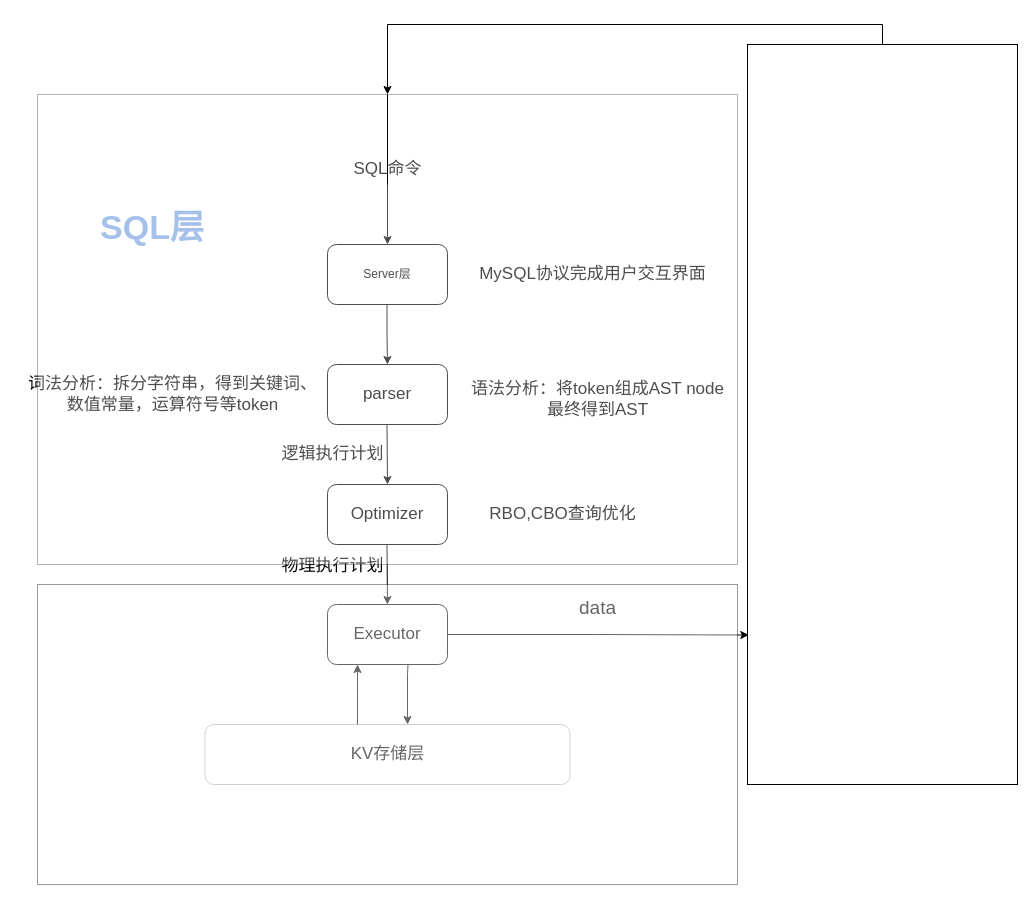
The diagram is 1035 pixels wide and 902 high, and some of its shapes have lost their labels. The shapes that lost their labels are listed below. From the top down, each one's box as (x1, y1, x2, y2) in pixels, then its label:
(746, 44, 1018, 784): Session Context
(36, 584, 738, 884): 调度层
